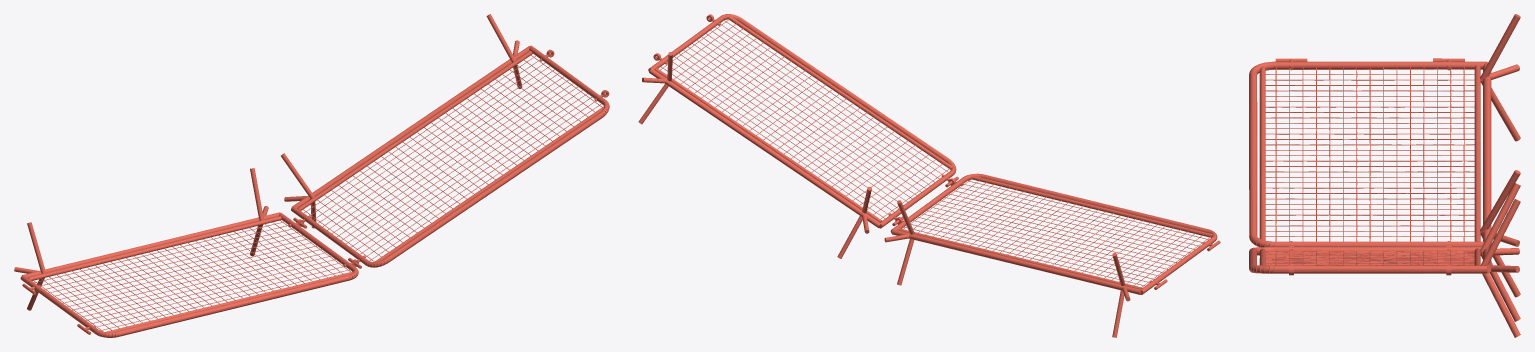
File: material-panels-red-enamel-panels.glb
3 views of the same model, side by side, from view 1: azimuth 30°, elevation 25°; view 2: azimuth 150°, elevation 25°; view 3: azimuth 270°, elevation 25° (orthographic). The views are drawn at different scales.
Visible parts, largest first — view 1: panel_0__frame; view 2: panel_0__frame; view 3: panel_0__frame.
Part boxes in pixels (bbox=[...]): panel_0__frame: bbox=[14, 14, 609, 337]; panel_0__frame: bbox=[638, 14, 1220, 337]; panel_0__frame: bbox=[1249, 14, 1520, 337].
Size of the model in its own units: 4.09 by 1.37 by 1.28.
